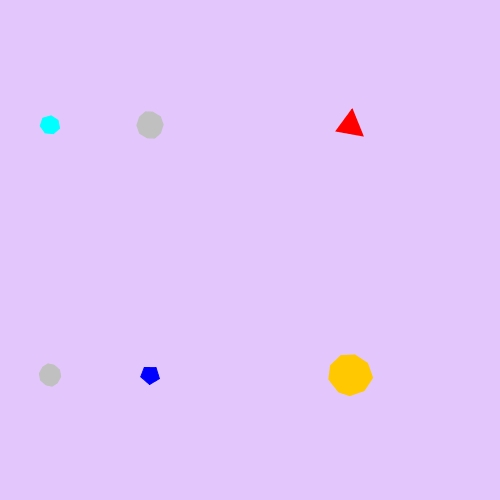decagon: (132, 108, 169, 142), (34, 360, 66, 390)
heptagon: (36, 111, 65, 139)
nonagon: (325, 351, 376, 400)
pentagon: (136, 361, 164, 389)
triangle: (333, 107, 367, 143)
